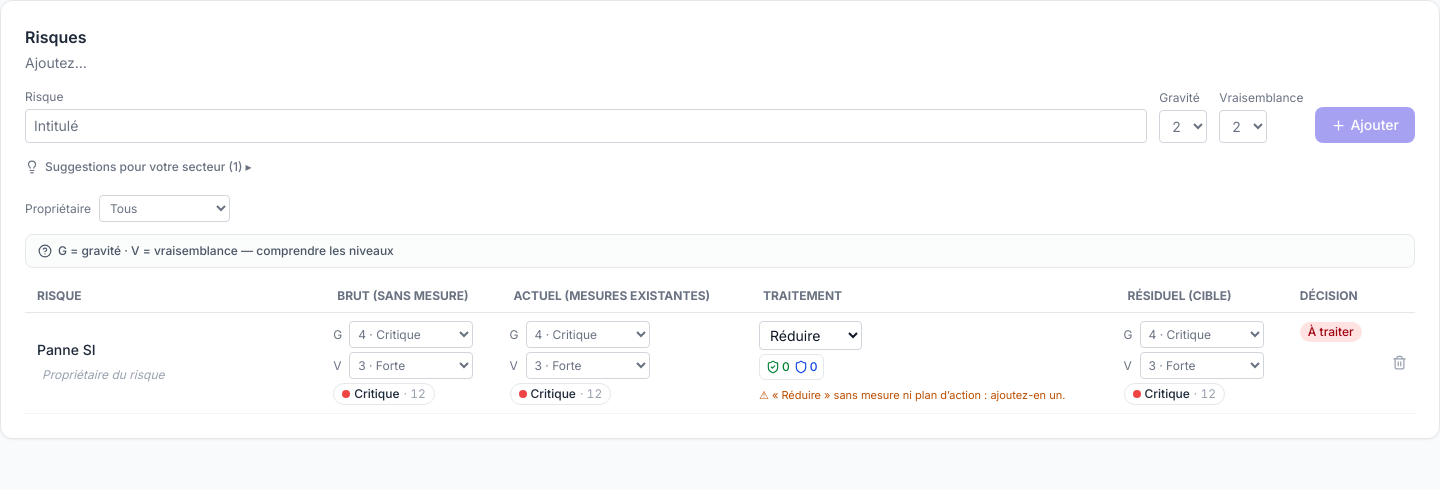
Test: RisquesDirects › #5 — masque les suggestions déjà présentes dans le registre
Expected: the text "Panne SI" is shown, [37,340,313,386]
# Registre non vide : suggestions repliées d'office, on les déplie.
Click the button "Suggestions pour votre secteur (1) ▸" at (138, 167), box [25,159,252,175]
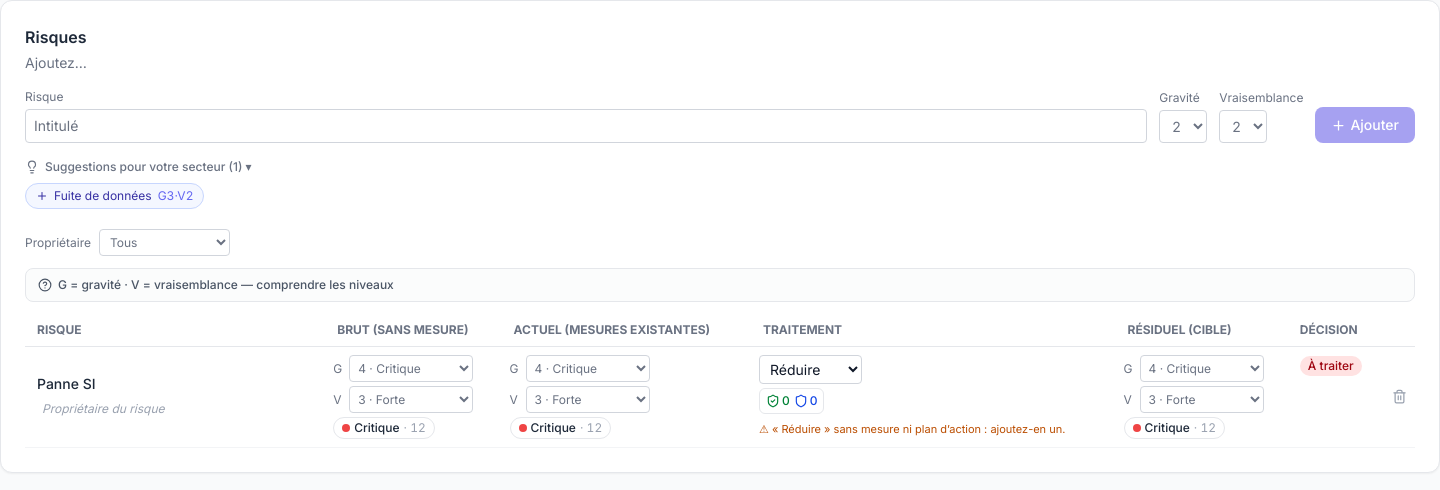
Expected: the button "Fuite de données G3·V2" is shown, [25,183,204,209]
